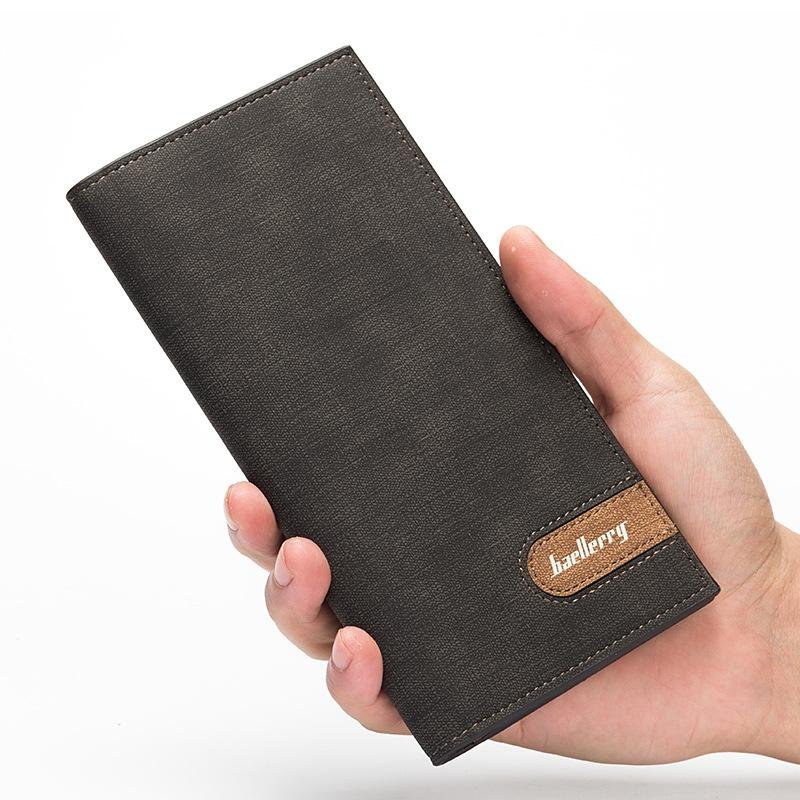monedero: (62, 42, 725, 769)
